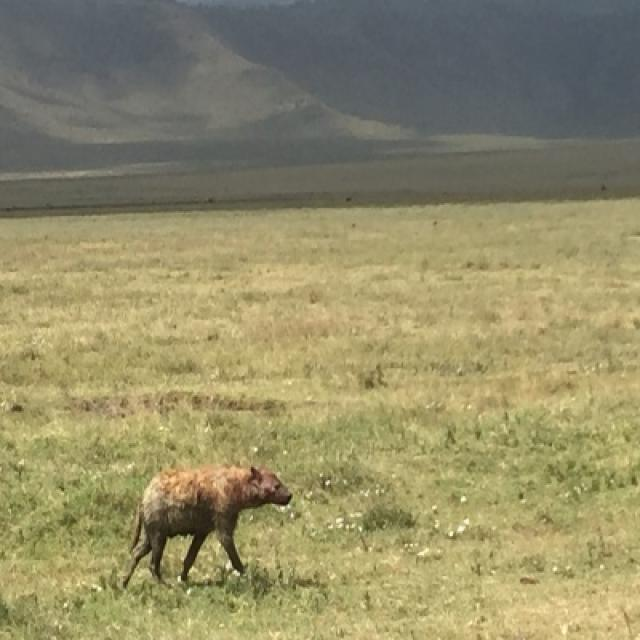hyena: (122, 466, 293, 592)
